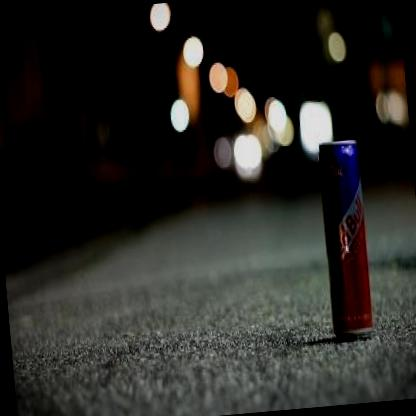alumunium_can: (314, 136, 378, 340)
